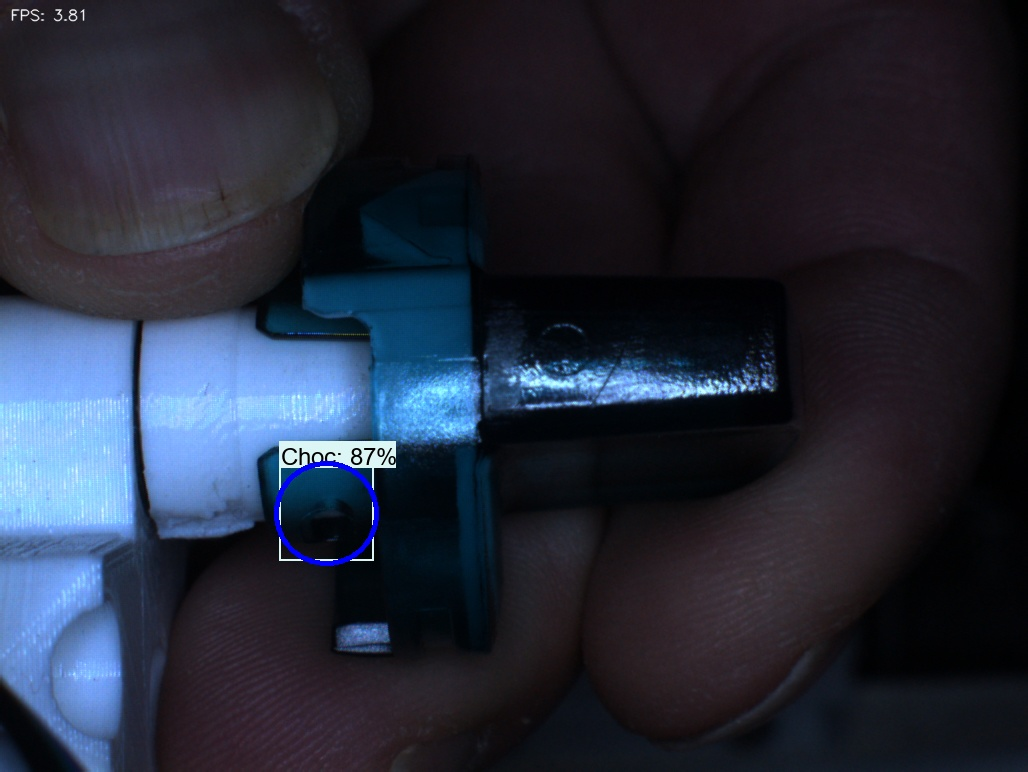DentOk: (339, 182, 410, 258)
